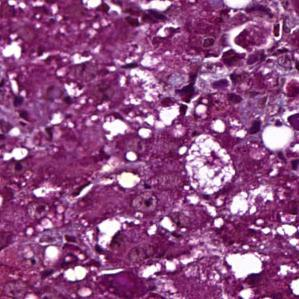ballooning: (185, 131, 235, 199)
